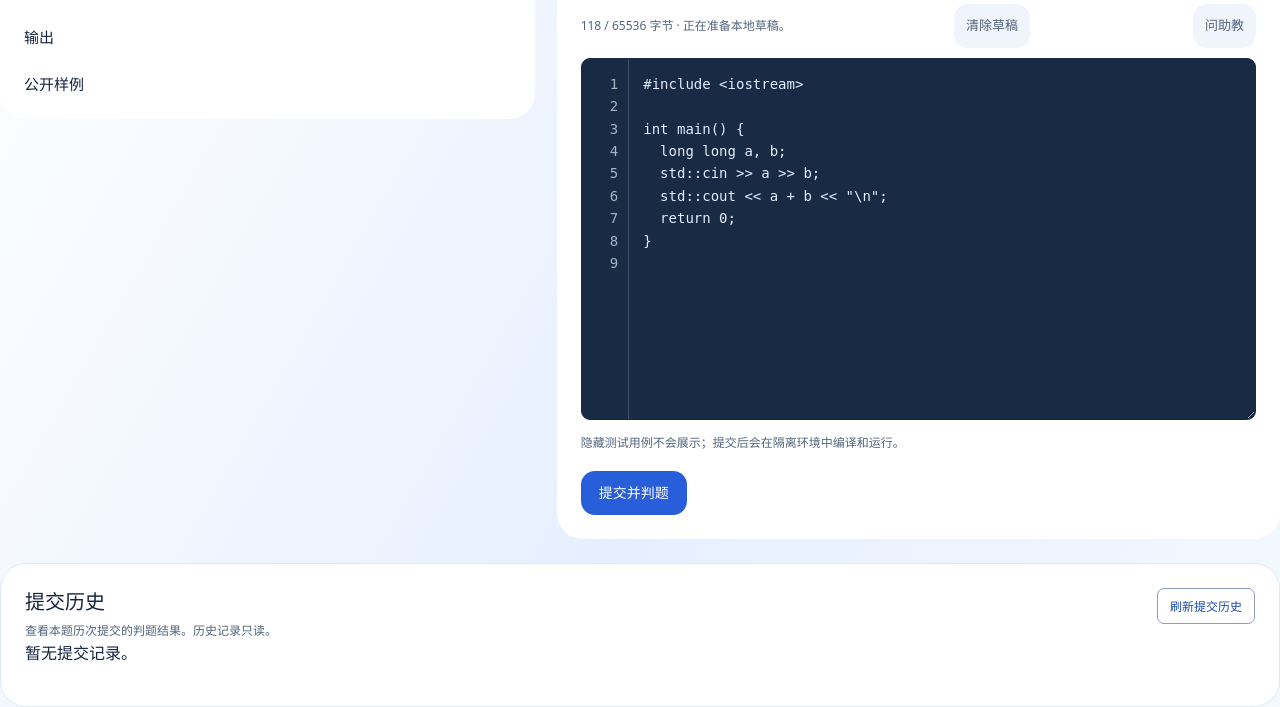
Test: 新提交后刷新服务端历史，不依赖本地提交 ID
(page scrolled)
Click the button with class "submit-button". click: (634, 493)
box: [581,471,687,515]
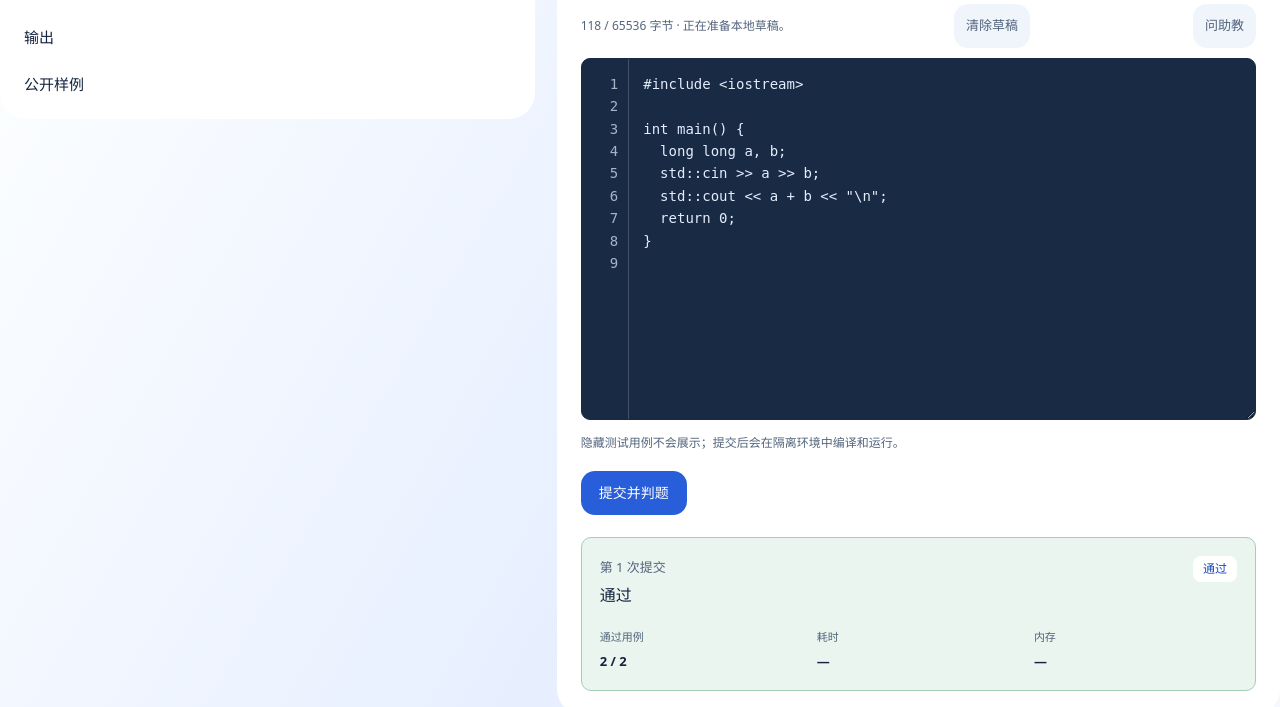
Expected: the element with class "result" shows "通过", [600,584,632,606]
